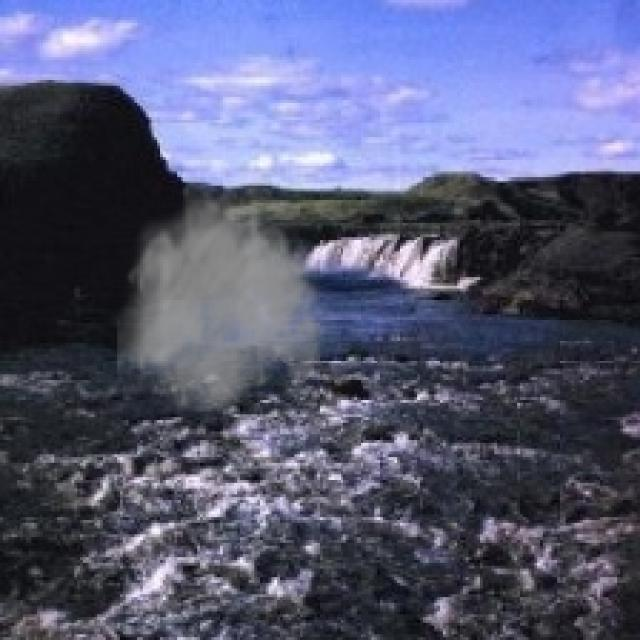Smoke: (117, 174, 340, 426)
